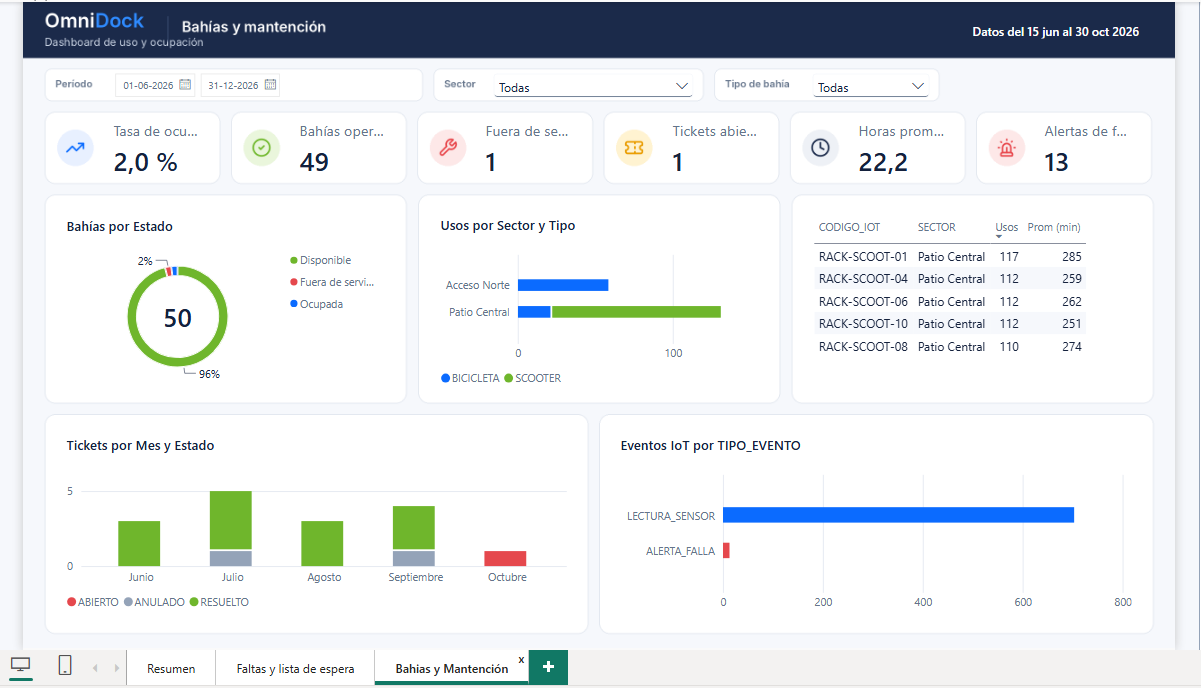

What the dashboard file says about the page in this screenshot:
{"tool":"powerbi","page":{"name":"Bahias y Mantención","canvas":[1280,720],"ordinal":2},"visuals":[{"type":"slicer","fields":{"Values":["V_DIM_FECHA.FECHA"]},"box":[94,74,344,32],"z":0},{"type":"slicer","fields":{"Values":["V_DIM_BAHIA.SECTOR"]},"box":[518,74,232,32],"z":1000},{"type":"slicer","fields":{"Values":["V_DIM_BAHIA.TIPO_PERMITIDO"]},"box":[872,74,140,32],"z":2000},{"type":"cardVisual","fields":{"Data":["Medidas.Rango de datos"]},"box":[1000,16,256,32],"z":3000},{"type":"cardVisual","fields":{"Data":["Medidas.Tasa de ocupación"]},"box":[84,132,129,64],"z":3001},{"type":"cardVisual","fields":{"Data":["Medidas.Bahías operativas"]},"box":[291,132.2,129,64],"z":3002},{"type":"cardVisual","fields":{"Data":["Medidas.Fuera de servicio"]},"box":[498,132.2,129,64],"z":3003},{"type":"cardVisual","fields":{"Data":["Medidas.Tickets abiertos"]},"box":[705,132.2,129,64],"z":3004},{"type":"cardVisual","fields":{"Data":["Medidas.Horas promedio de resolución"]},"box":[912,132.2,129,64],"z":3005},{"type":"cardVisual","fields":{"Data":["Medidas.Alertas de falla"]},"box":[1119,132.2,129,64],"z":3006},{"type":"donutChart","fields":{"Category":["V_DIM_BAHIA.Estado"],"Y":["Medidas.Bahías"]},"box":[32,224,386,216],"z":3007},{"type":"barChart","title":"Usos por Sector y Tipo","fields":{"Category":["V_DIM_BAHIA.SECTOR"],"Series":["V_DIM_BAHIA.TIPO_PERMITIDO"],"Y":["Medidas.Usos por bahía"]},"box":[447.3,223.1,386.3,224.2],"z":3008},{"type":"tableEx","fields":{"Values":["V_DIM_BAHIA.CODIGO_IOT","V_DIM_BAHIA.SECTOR","Medidas.Usos","Medidas.Uso promedio (min)"]},"box":[862,223.1,386,216],"z":3009},{"type":"columnChart","fields":{"Category":["V_DIM_FECHA.NOMBRE_MES"],"Series":["V_HECHO_TICKET.ESTADO_TICKET"],"Y":["Medidas.Tickets"]},"box":[32,468,588,228],"z":3010},{"type":"barChart","fields":{"Category":["V_HECHO_EVENTO_IOT.TIPO_EVENTO"],"Y":["Medidas.Eventos IoT"]},"box":[648,468,600,228.3],"z":3011}]}

Visuals, with their boxes on the page's 1280x720 design canvas (x1, y1, x2, y2). These are canvas units, not pixel positions in the 1201x688 screenshot, which may show the page scaled, cropped or inside an application window:
slicer - V_DIM_FECHA.FECHA: 94, 74, 438, 106
slicer - V_DIM_BAHIA.SECTOR: 518, 74, 750, 106
slicer - V_DIM_BAHIA.TIPO_PERMITIDO: 872, 74, 1012, 106
cardVisual - Medidas.Rango de datos: 1000, 16, 1256, 48
cardVisual - Medidas.Tasa de ocupación: 84, 132, 213, 196
cardVisual - Medidas.Bahías operativas: 291, 132, 420, 196
cardVisual - Medidas.Fuera de servicio: 498, 132, 627, 196
cardVisual - Medidas.Tickets abiertos: 705, 132, 834, 196
cardVisual - Medidas.Horas promedio de resolución: 912, 132, 1041, 196
cardVisual - Medidas.Alertas de falla: 1119, 132, 1248, 196
donutChart - V_DIM_BAHIA.Estado x Medidas.Bahías: 32, 224, 418, 440
"Usos por Sector y Tipo" barChart: 447, 223, 834, 447
tableEx - V_DIM_BAHIA.CODIGO_IOT x V_DIM_BAHIA.SECTOR: 862, 223, 1248, 439
columnChart - V_DIM_FECHA.NOMBRE_MES x V_HECHO_TICKET.ESTADO_TICKET: 32, 468, 620, 696
barChart - V_HECHO_EVENTO_IOT.TIPO_EVENTO x Medidas.Eventos IoT: 648, 468, 1248, 696
